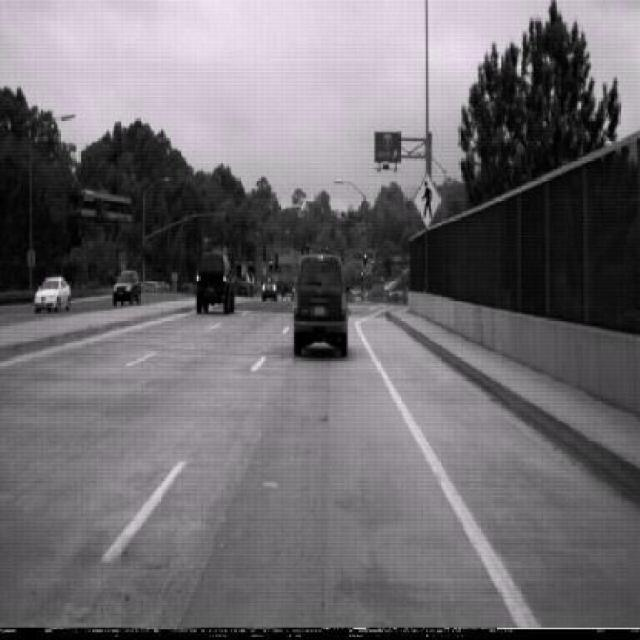pedestrianCrossing: (412, 171, 441, 230)
